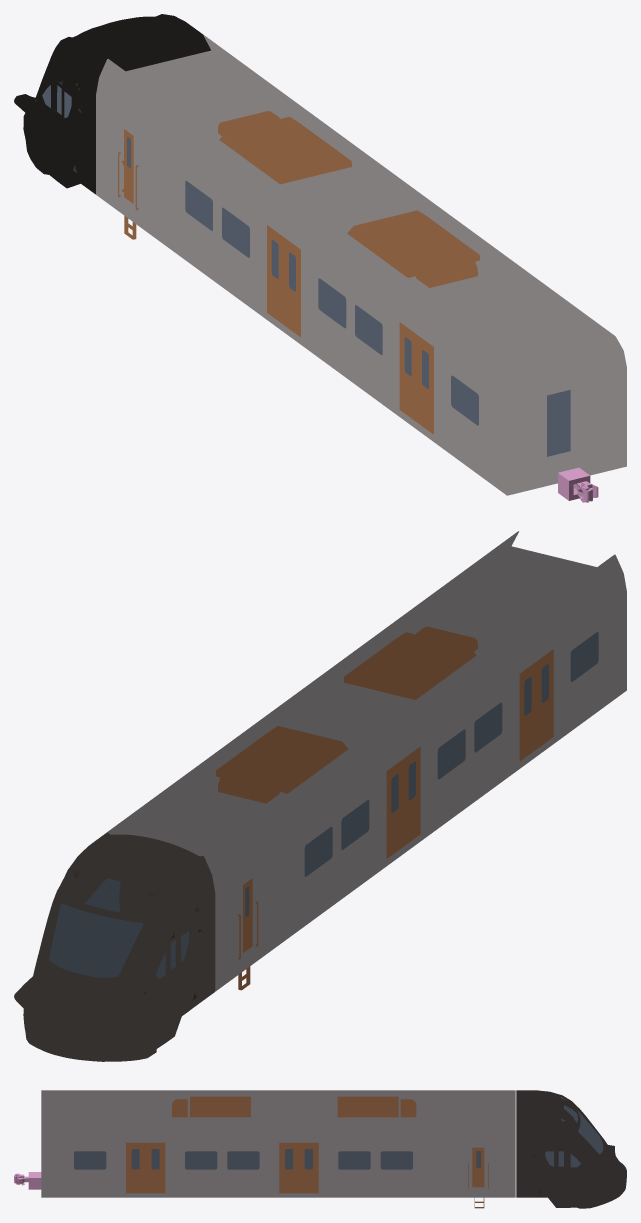
Rendered from Vagon1_1.obj.
3 views of the same model, one above another, from view 1: azimuth 30°, elevation 25°; view 2: azimuth 150°, elevation 25°; view 3: azimuth 270°, elevation 25° (orthographic). The views are drawn at different scales.
Visible parts, largest first — view 1: Vagon, Puertas, Cabina, Ventanas; view 2: Vagon, Cabina, Puertas, Ventanas; view 3: Vagon, Cabina, Puertas, Ventanas.
Boxes of the visible parts, x1,y1,x2,y2 form: Vagon: (96, 35, 626, 502); Puertas: (118, 111, 479, 434); Cabina: (14, 14, 210, 194); Ventanas: (42, 85, 570, 456); Vagon: (107, 531, 626, 991); Cabina: (14, 832, 215, 1061); Puertas: (216, 626, 553, 990); Ventanas: (49, 632, 598, 979); Vagon: (14, 1090, 515, 1197); Cabina: (516, 1090, 626, 1208); Puertas: (126, 1096, 488, 1208); Ventanas: (74, 1105, 603, 1169).
Bounding box in the file's own units: 47.09 × 57.67 × 349.
Materials: 5 (4 with a texture image).
